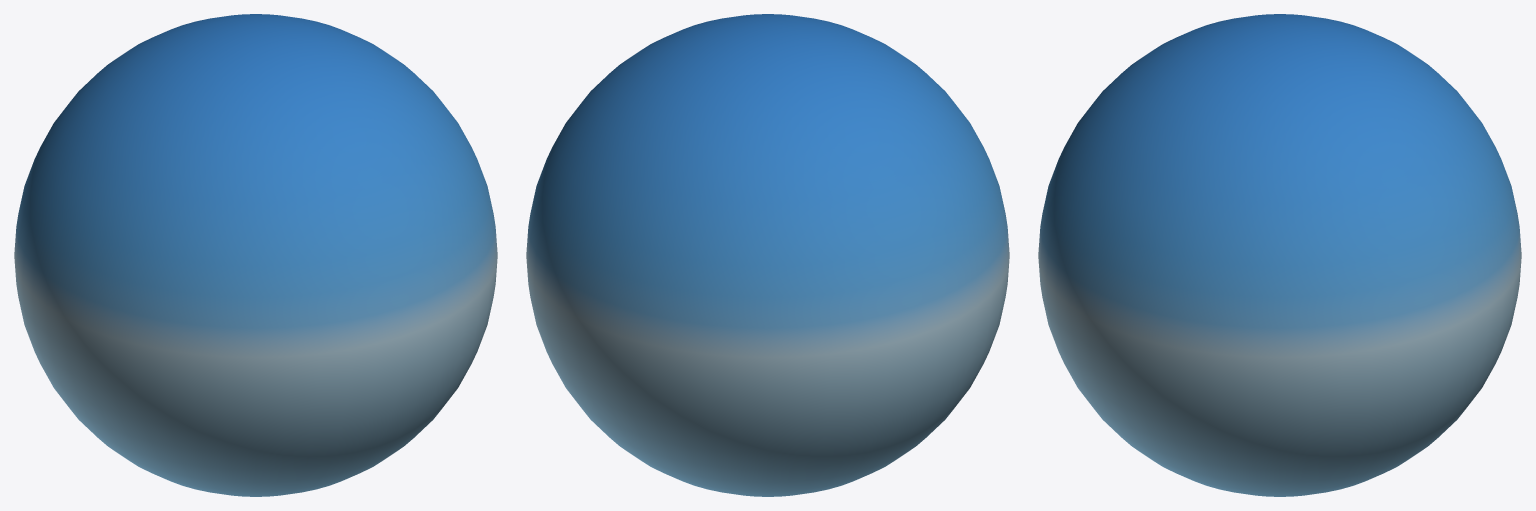
Rendered from w_sky.glb.
3 renders of one model, left to right at view 1: azimuth 30°, elevation 25°; view 2: azimuth 150°, elevation 25°; view 3: azimuth 270°, elevation 25°, orthographic.
Visible parts, largest first — view 1: SkyDome; view 2: SkyDome; view 3: SkyDome.
Part boxes in pixels (<box>): SkyDome: <box>14,14,497,496</box>; SkyDome: <box>526,14,1009,496</box>; SkyDome: <box>1038,14,1521,496</box>.
Bounding box in the file's own units: 2 × 2 × 2.
